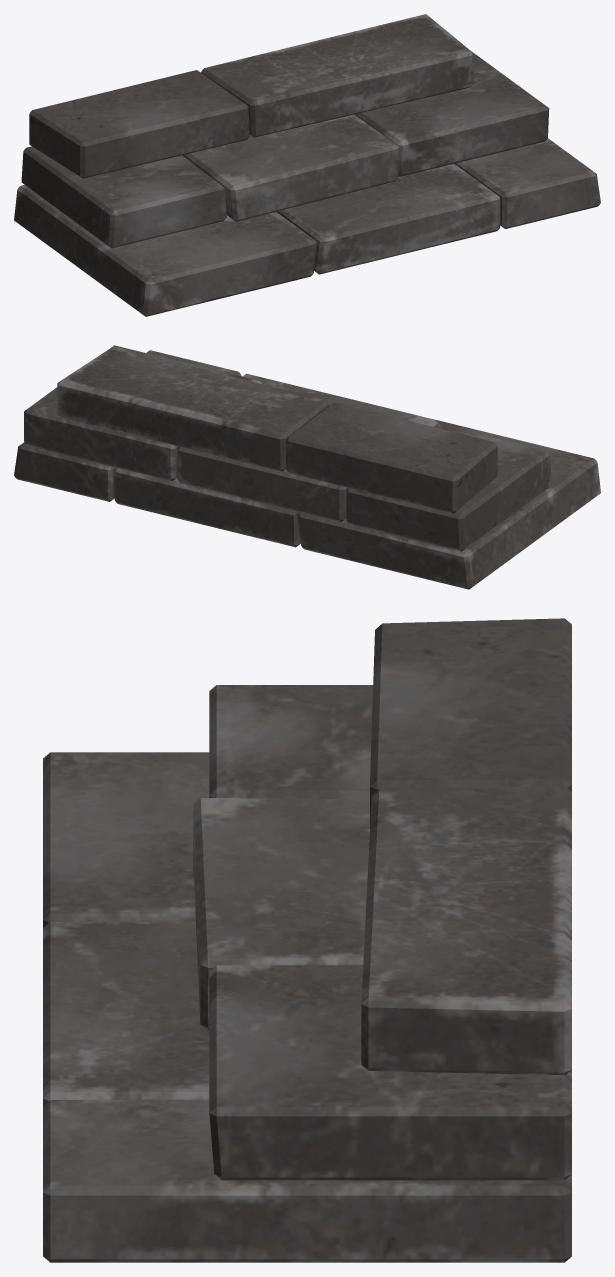
File: SM_Stairs.fbx
The picture shows the model from 3 angles, top to bottom: view 1: azimuth 30°, elevation 25°; view 2: azimuth 150°, elevation 25°; view 3: azimuth 270°, elevation 25°; orthographic projection. The views are drawn at different scales.
Parts seen in each view (by area): view 1: SM_Stairs; view 2: SM_Stairs; view 3: SM_Stairs.
Boxes of the visible parts, <box> form: SM_Stairs: <box>14,14,600,316</box>; SM_Stairs: <box>14,345,600,589</box>; SM_Stairs: <box>43,618,571,1262</box>.
Bounding box in the file's own units: 220 × 50 × 110.
